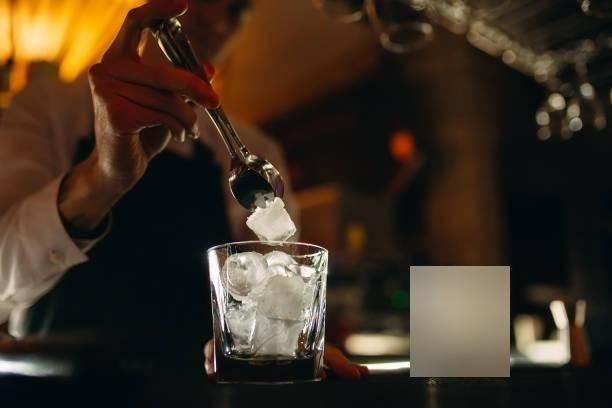glass-normal: (205, 238, 331, 386)
